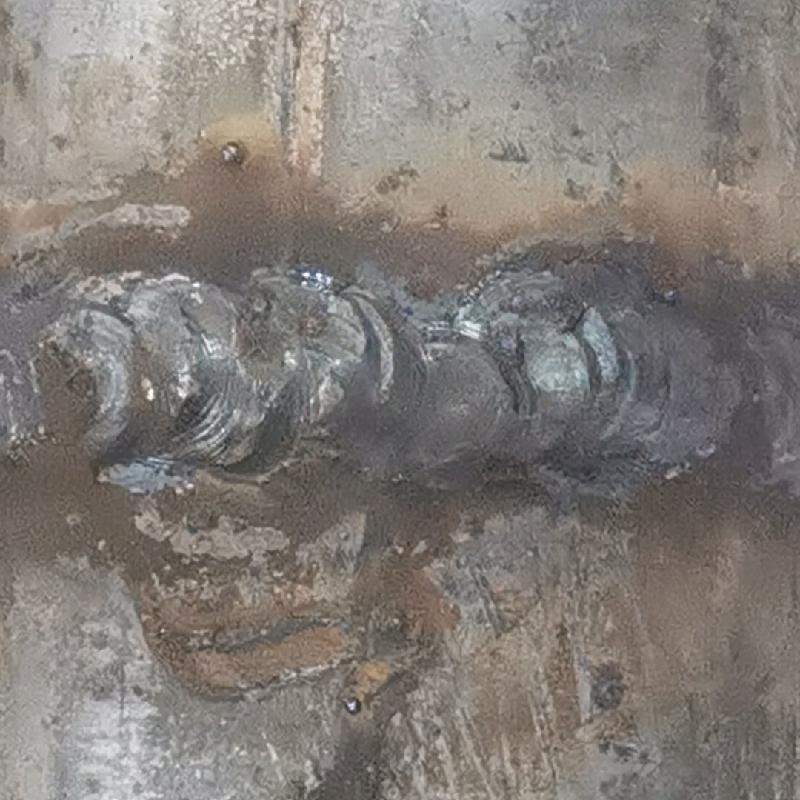good: (3, 254, 799, 486)
